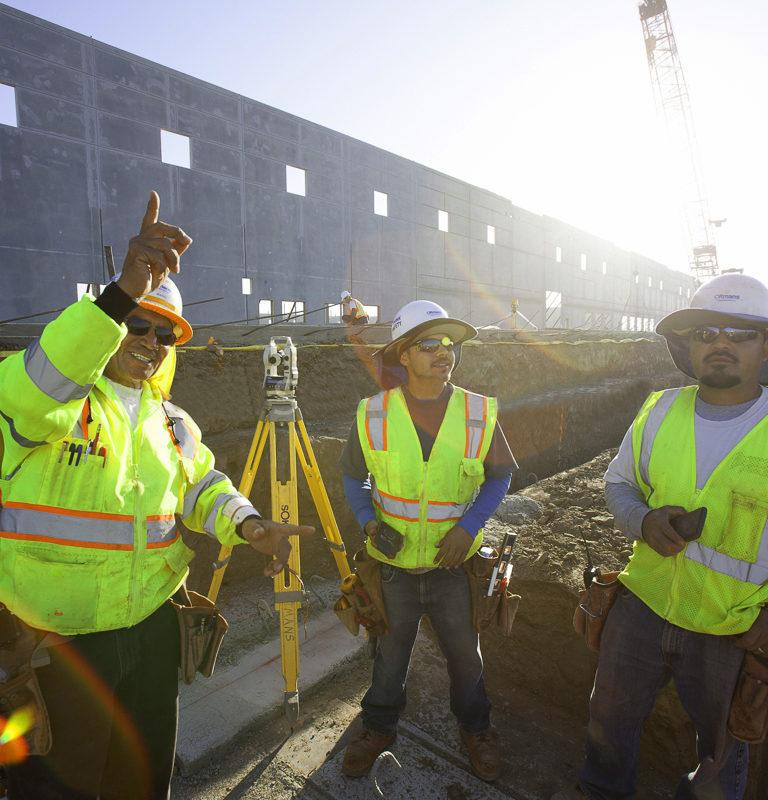helmet: (654, 275, 768, 341), (369, 299, 477, 361), (141, 275, 197, 347)
